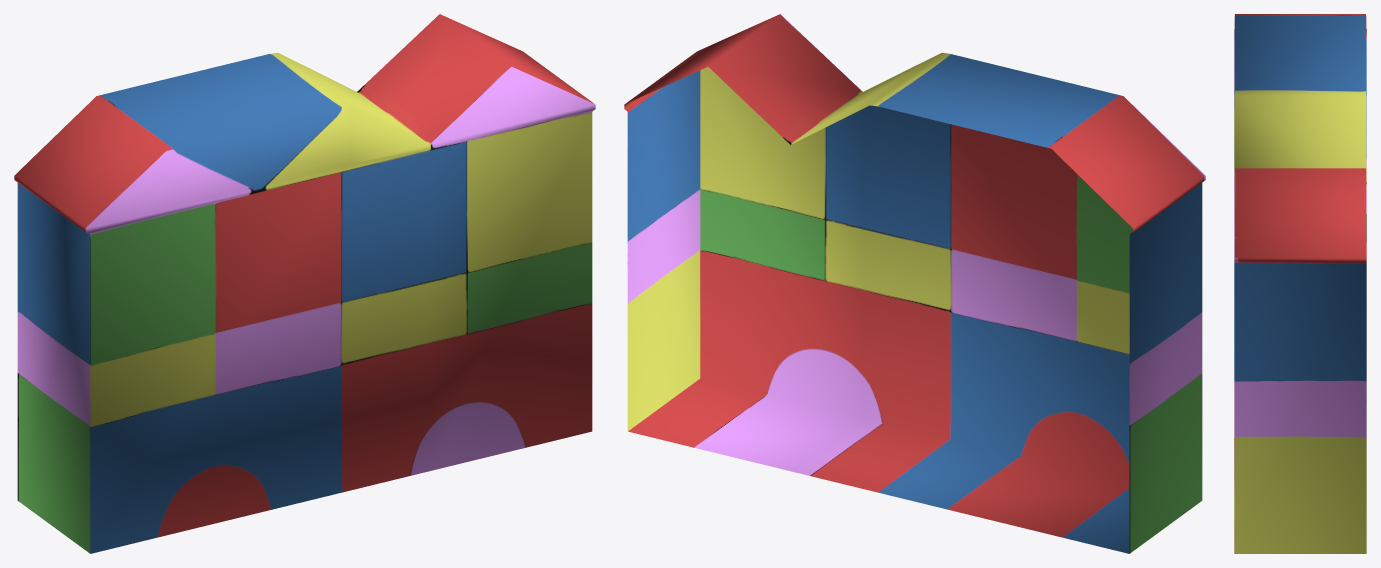
File: BlockGame.fbx
3 views of the same model, side by side, from view 1: azimuth 30°, elevation 25°; view 2: azimuth 150°, elevation 25°; view 3: azimuth 270°, elevation 25° (orthographic). The views are drawn at different scales.
Parts seen in each view (by area): view 1: SM_BlocksGame; view 2: SM_BlocksGame; view 3: SM_BlocksGame.
Boxes of the visible parts, x1,y1,x2,y2 form: SM_BlocksGame: [14, 14, 595, 553]; SM_BlocksGame: [624, 14, 1205, 553]; SM_BlocksGame: [1234, 14, 1366, 553].
Bounding box in the file's own units: 122 × 88.62 × 30.28.
